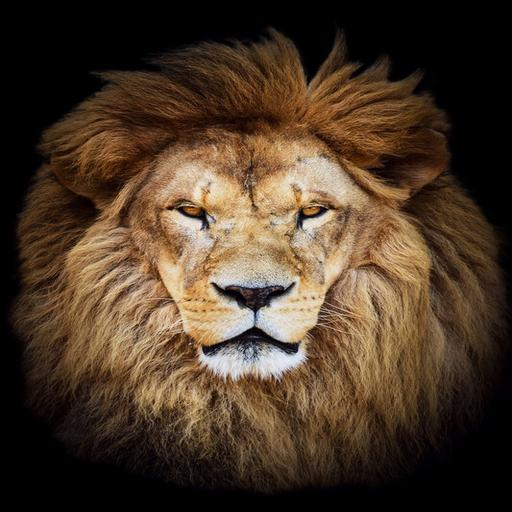Lion: (0, 24, 512, 498)
